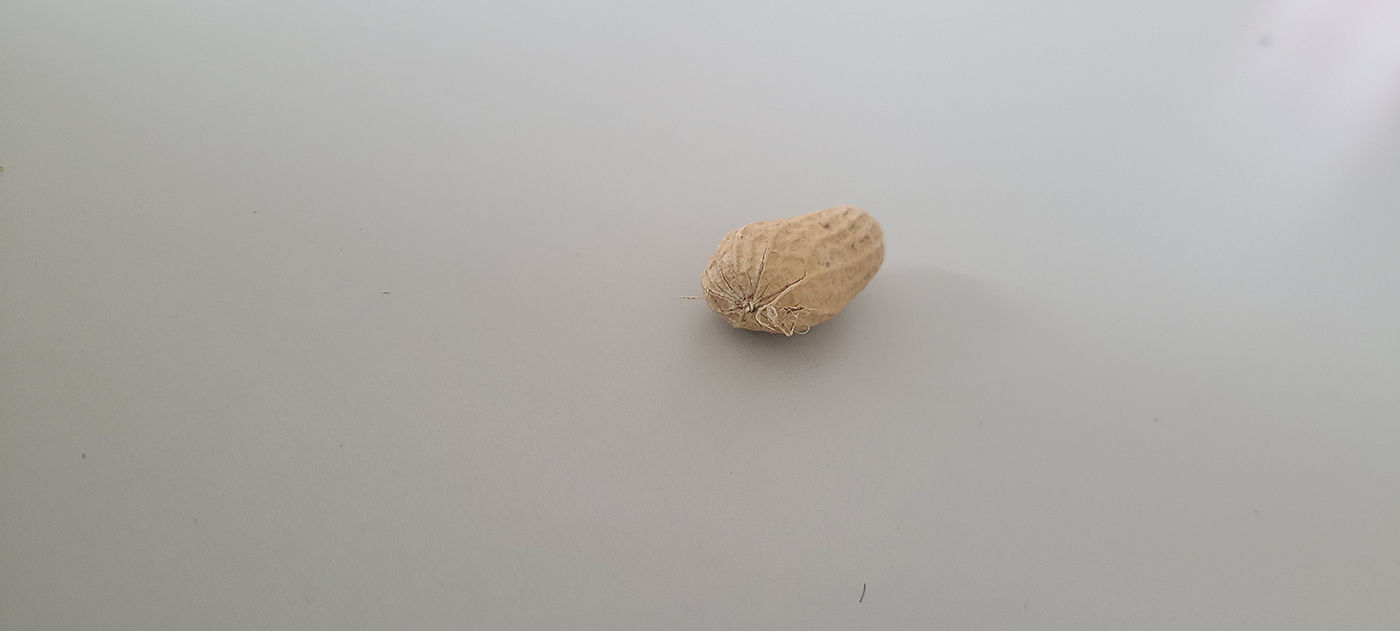h: (702, 199, 890, 331)
